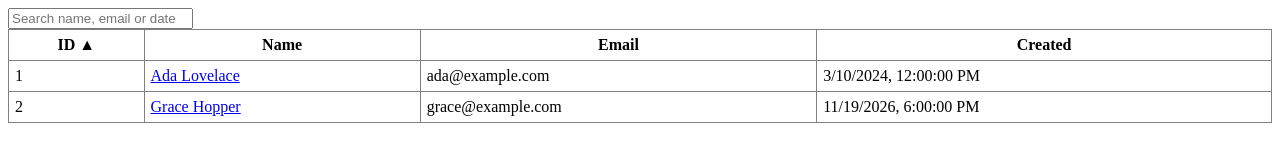
Test: CustomerTable › shows "No matches." when nothing matches
Type "zzz" into the field with placeholder "Search name, email or date" at [100, 18], box [8,8,193,29]
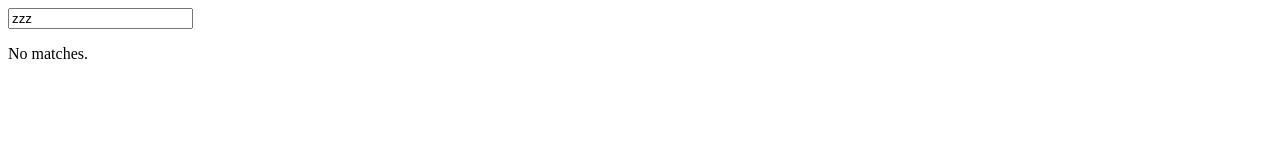
Check: the text "No matches." is shown, box [8,45,88,62]
